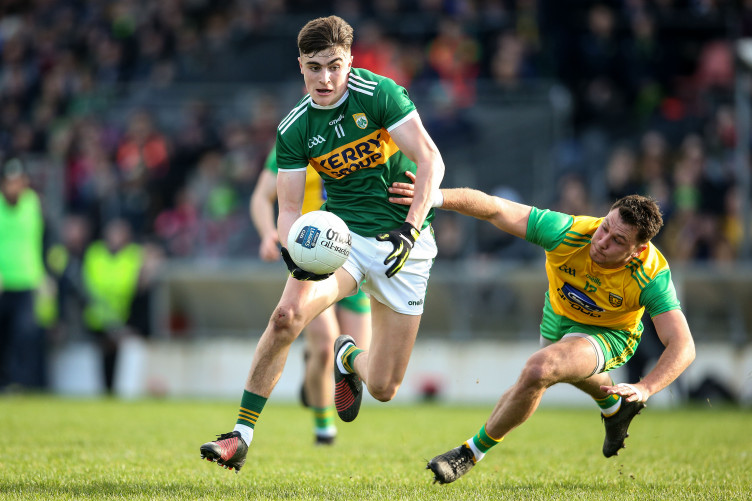ball: (285, 210, 350, 268)
player: (253, 17, 432, 432), (509, 165, 686, 452)
